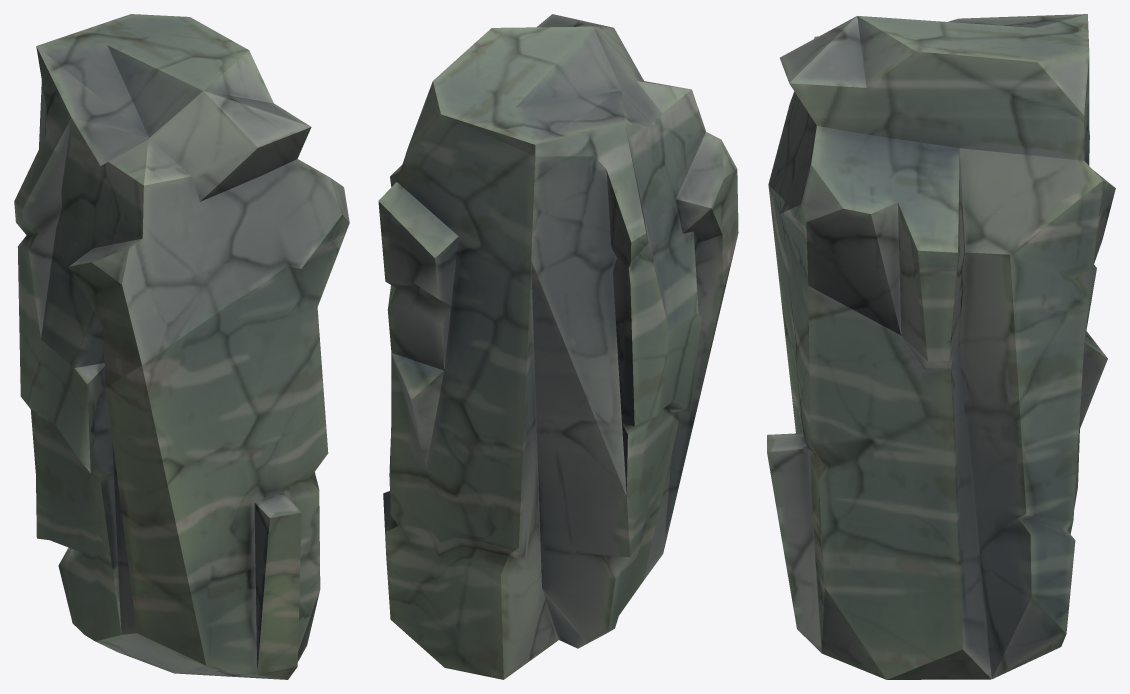
Rendered from obj_harvest_stonechunk03.fbx.
3 renders of one model, left to right at view 1: azimuth 30°, elevation 25°; view 2: azimuth 150°, elevation 25°; view 3: azimuth 270°, elevation 25°, orthographic. The views are drawn at different scales.
Parts seen in each view (by area): view 1: hvs_rock_chunk03; view 2: hvs_rock_chunk03; view 3: hvs_rock_chunk03.
Boxes of the visible parts, x1,y1,x2,y2 form: hvs_rock_chunk03: (14, 14, 349, 679); hvs_rock_chunk03: (378, 14, 738, 679); hvs_rock_chunk03: (767, 14, 1115, 679).
Size of the model in its own units: 4.08 by 8.08 by 4.21.
